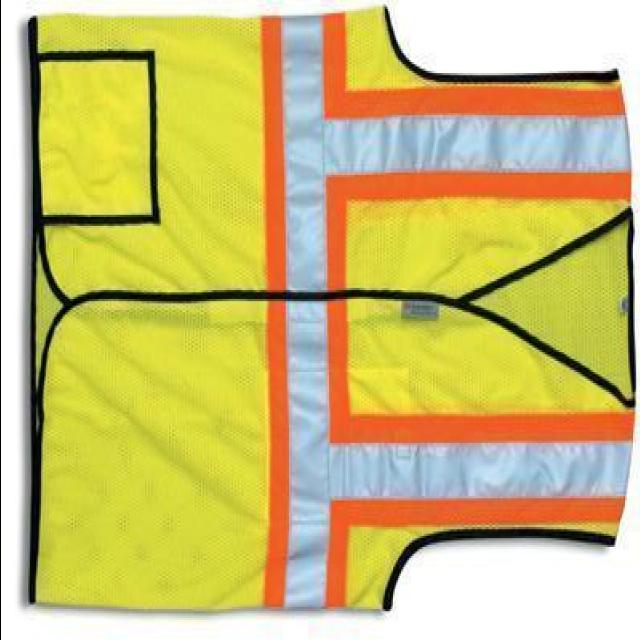jacket: (21, 6, 640, 622)
